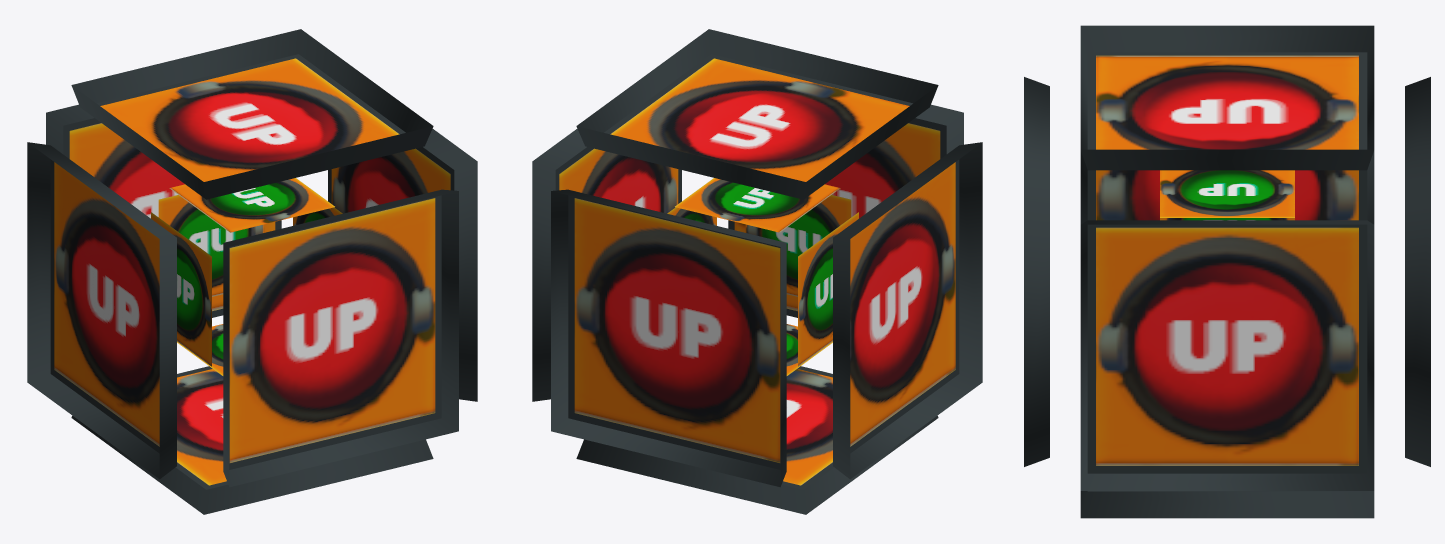
File: fant_unitfacer_hub_off.fbx
3 views of the same model, side by side, from view 1: azimuth 30°, elevation 25°; view 2: azimuth 150°, elevation 25°; view 3: azimuth 270°, elevation 25° (orthographic). The views are drawn at different scales.
Visible parts, largest first — view 1: fant_unitfacer_hub; view 2: fant_unitfacer_hub; view 3: fant_unitfacer_hub.
Boxes of the visible parts, box(x1,y1,x2,y2) form: fant_unitfacer_hub: box(27, 29, 477, 514); fant_unitfacer_hub: box(532, 29, 982, 514); fant_unitfacer_hub: box(1024, 25, 1430, 518).
Bounding box in the file's own units: 100 × 100 × 100.
